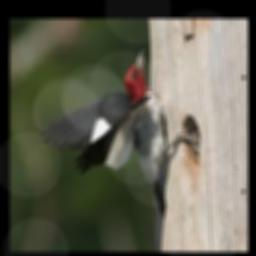Woodpecker: (42, 49, 198, 217)
